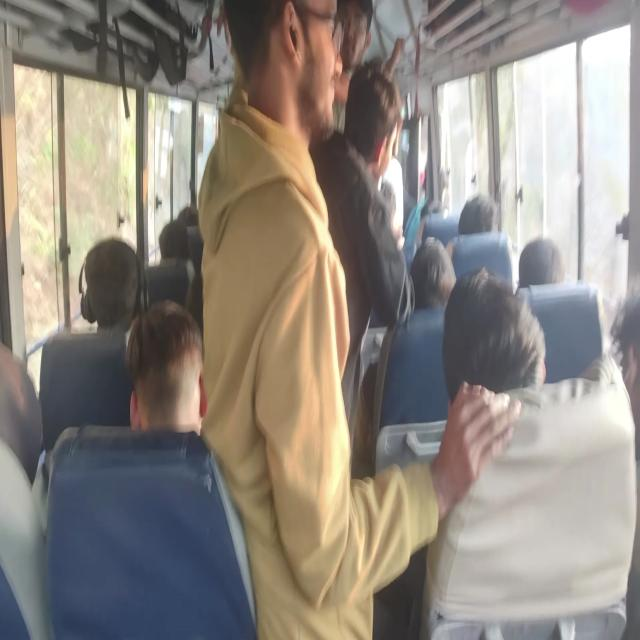person: (356, 230, 432, 638), (440, 268, 544, 404), (342, 61, 402, 248), (126, 299, 207, 435), (221, 0, 325, 84), (80, 238, 146, 328), (1, 351, 43, 488), (612, 293, 640, 467), (409, 238, 455, 310), (517, 237, 565, 288), (456, 193, 499, 236), (158, 218, 190, 260), (184, 273, 203, 329), (179, 205, 199, 228), (428, 200, 448, 216)
